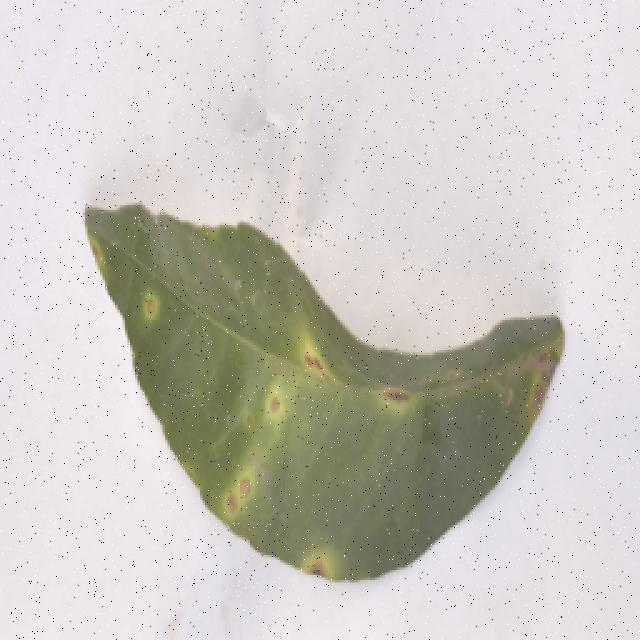canker: (93, 204, 556, 596)
